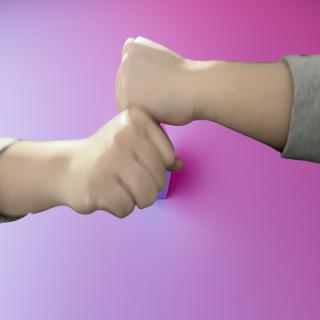CAREFUL: (1, 33, 319, 219)
